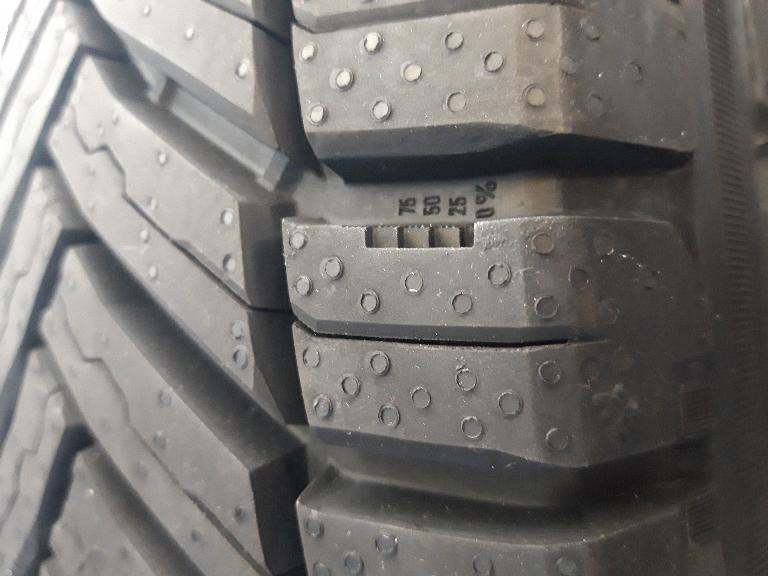temoin:100: (336, 221, 482, 251)
